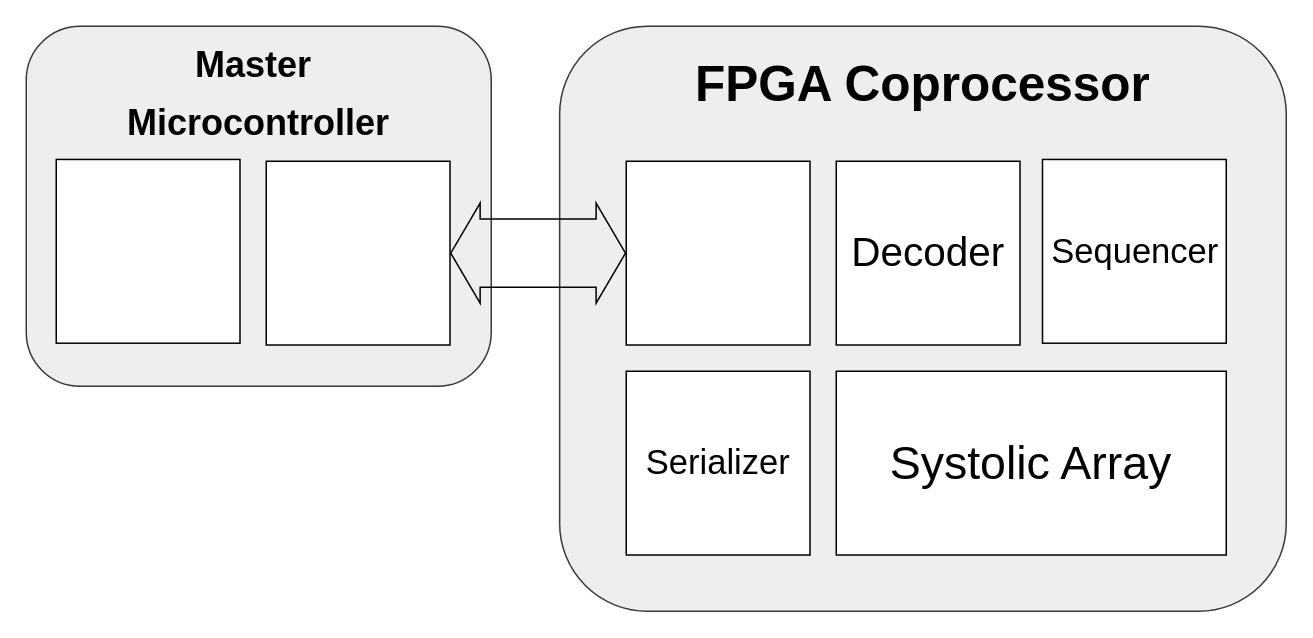
Some shapes in this 1313 by 638 pixel diagram are drawn without their labels. Each missing label, with the centre of its shape:
"Device Driver" belongs at point 357,252.
"Driver Wrapper API" belongs at point 147,250.
"SPI Slave Interface" belongs at point 717,252.
